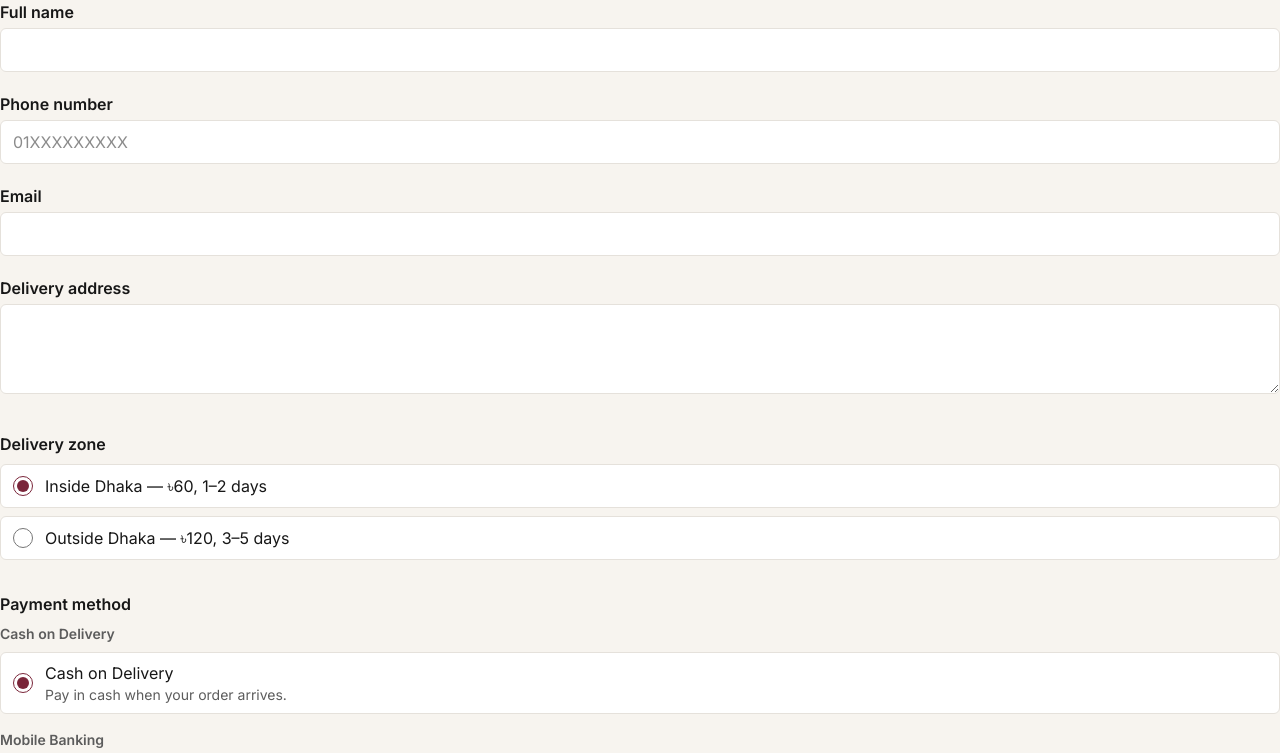
Test: CheckoutForm › updates the delivery fee when the zone changes
Click the radio button labelled "Outside Dhaka — ৳120, 3–5 days": (23, 538) x1=13 y1=528 x2=33 y2=548
(page scrolled)
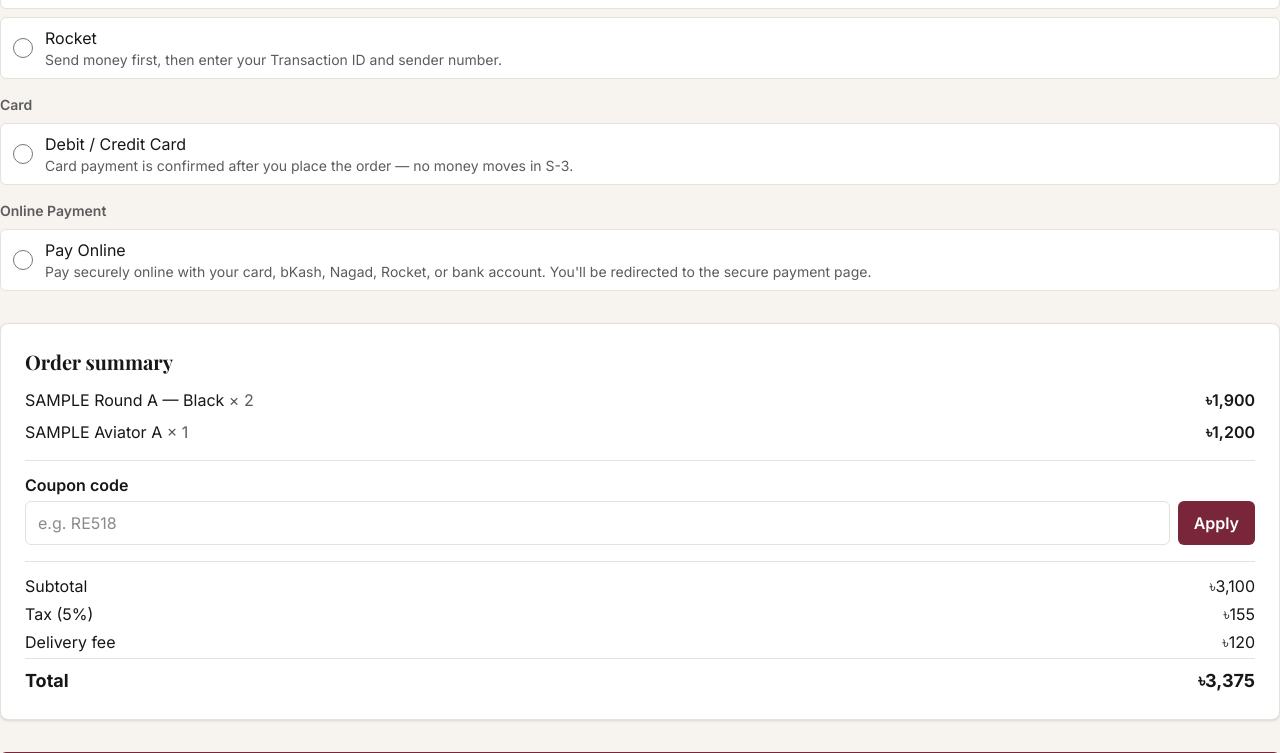
Expected: the text "৳3,375" is shown, x1=1198 y1=667 x2=1255 y2=695
